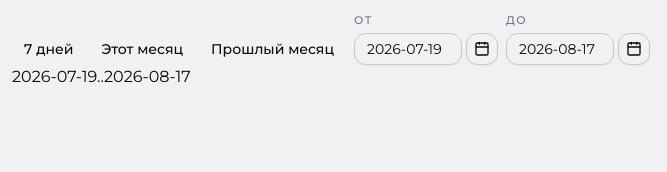
Scenario: PeriodControl › accepts a manually entered valid range and stores it in the address
Replace the text in the field labelled "От" with "2026-06-01" at [408, 48], box [354,32,462,64]
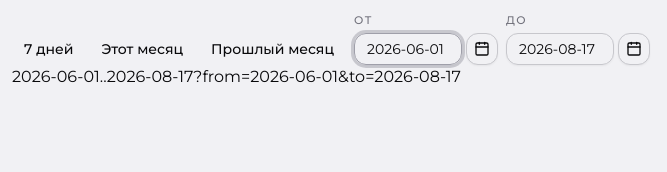
Replace the text in the field labelled "До" with "2026-06-30" at [560, 48], box [506,32,614,64]
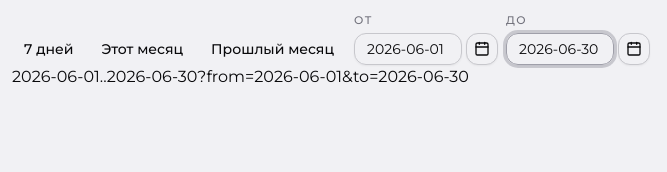
Expected: the text with test id "search" shows "from=2026-06-01", [197,66,469,86]
Expected: the text "2026-06-01..2026-06-30" is shown, [12,66,197,86]
Expected: the text with test id "search" shows "to=2026-06-30", [197,66,469,86]
